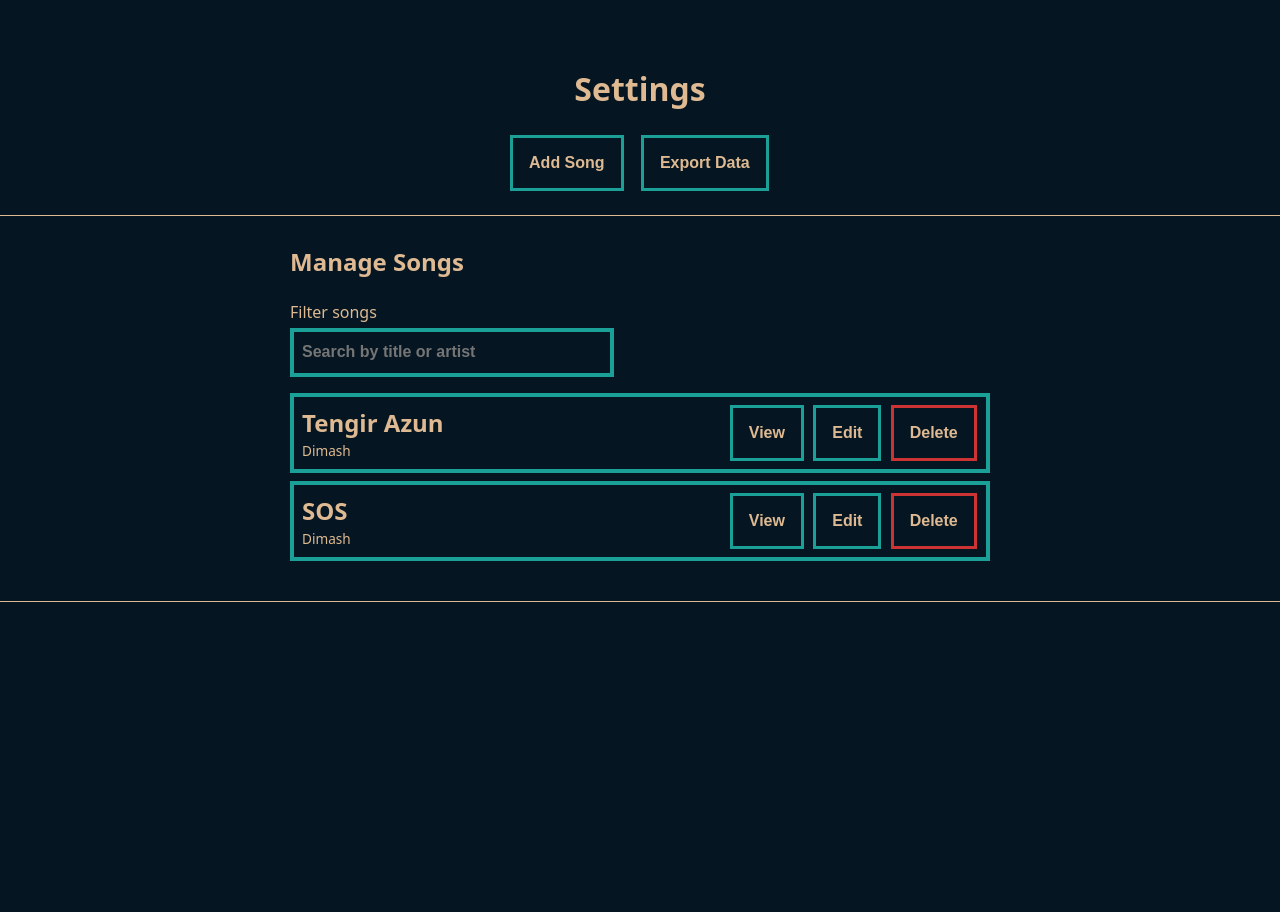
Settings Page › opens the song edit form and fetches lyrics when Edit is clicked
The image size is (1280, 912).
Expected: the text "Tengir Azun" is shown, [302, 405, 444, 441]
Click the button "Edit" in the row of "Tengir Azun": (847, 433) [813, 405, 881, 461]
(page scrolled)
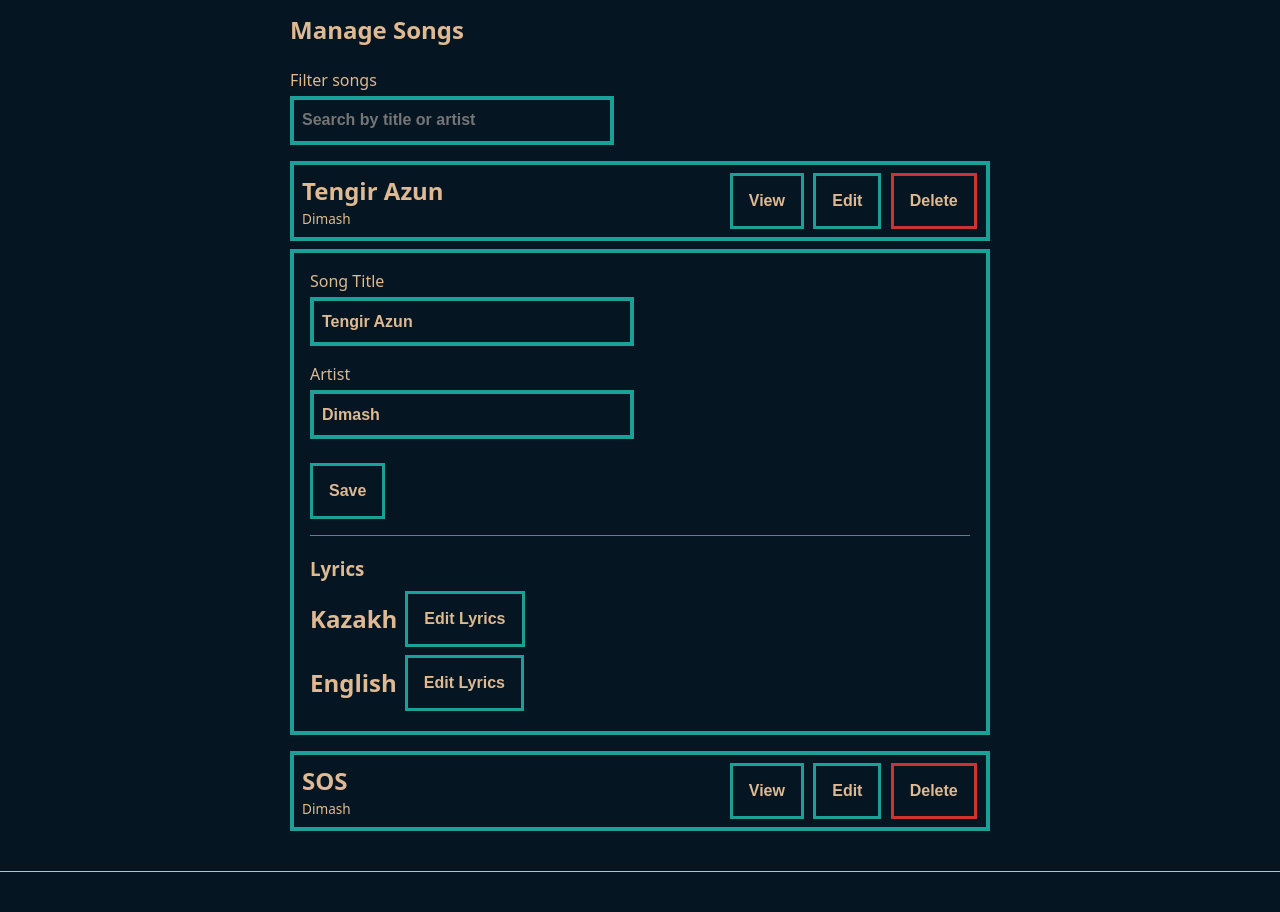
Result: the field labelled "Song Title" is shown at [310, 297, 634, 346]
Result: the text "Kazakh" is shown at [310, 601, 397, 637]
Result: the text "English" is shown at [310, 665, 397, 701]
